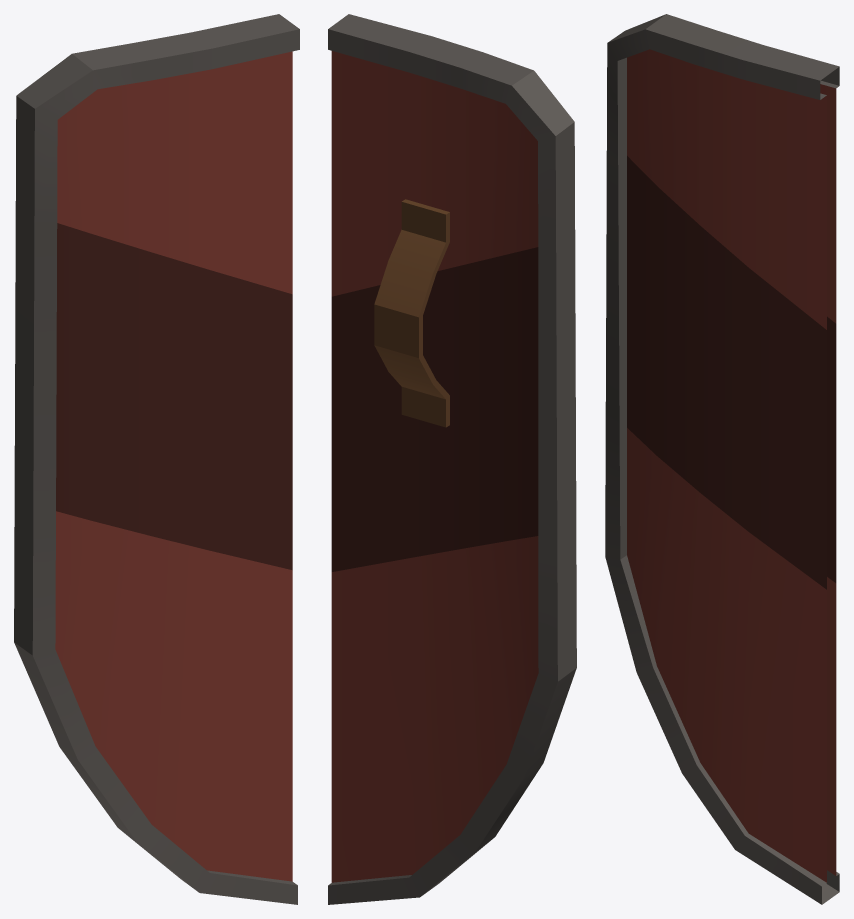
The model's file is Heater Shield_Red.glb.
The picture shows the model from 3 angles, left to right: view 1: azimuth 30°, elevation 25°; view 2: azimuth 150°, elevation 25°; view 3: azimuth 330°, elevation 25°; orthographic projection. The views are drawn at different scales.
Visible parts, largest first — view 1: Heater Shield_Red; view 2: Heater Shield_Red; view 3: Heater Shield_Red.
Boxes of the visible parts, x1=… form: Heater Shield_Red: x1=14, y1=14, x2=299, y2=904; Heater Shield_Red: x1=328, y1=14, x2=576, y2=904; Heater Shield_Red: x1=605, y1=14, x2=839, y2=904.
Bounding box in the file's own units: 0.2491 × 0.8428 × 0.0878.
Materials: 1 (1 with a texture image).
